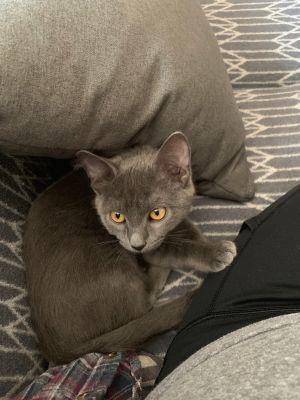rblue: (76, 123, 202, 261)
